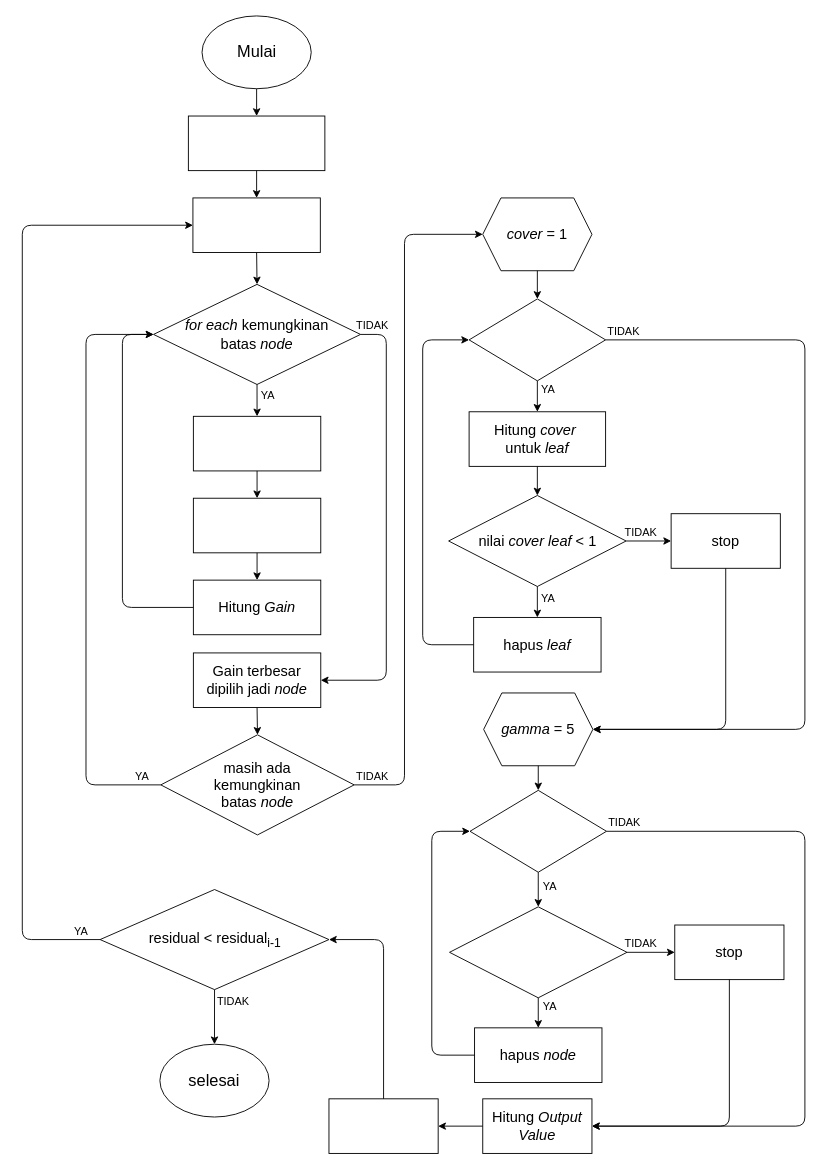
This 828x1169 diagram has some shape labels left out. Each missing label, with the box of its shape:
for each leaf: (468, 298, 606, 381)
for each node: (469, 789, 607, 872)
Gain - Gamma = negative (-): (449, 906, 627, 998)
Hitung new probability: (328, 1098, 438, 1153)
hitung residual: (192, 197, 320, 253)
Hitung Similarity: (192, 497, 321, 553)
set Initial Probability = 0.5: (187, 115, 325, 171)
Tentukan Batas untuk node: (192, 415, 321, 471)
